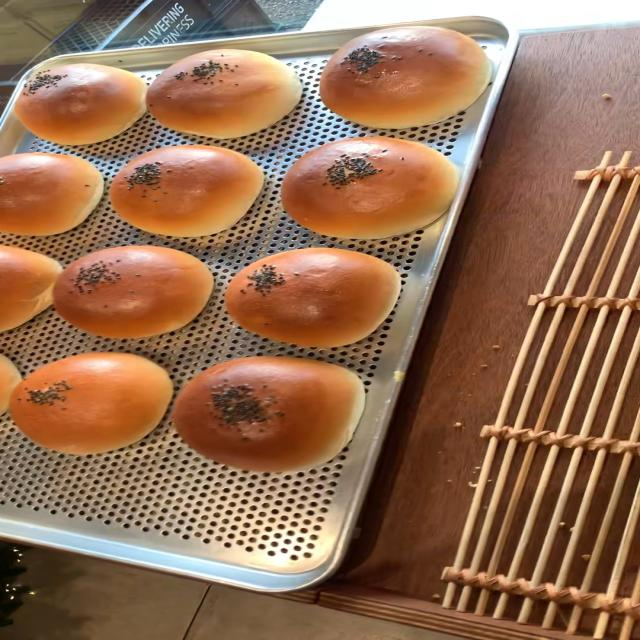bread: (165, 359, 360, 471), (319, 19, 490, 128), (281, 137, 459, 239), (223, 247, 398, 347), (0, 352, 172, 453), (47, 245, 213, 337), (104, 144, 259, 235), (144, 49, 300, 138), (6, 55, 144, 143), (0, 152, 100, 233)
